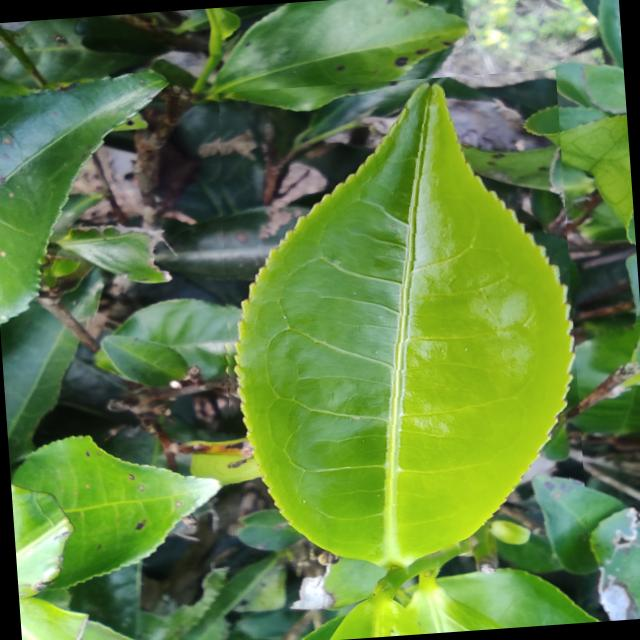Category B(2-4 days): (200, 68, 590, 585)
